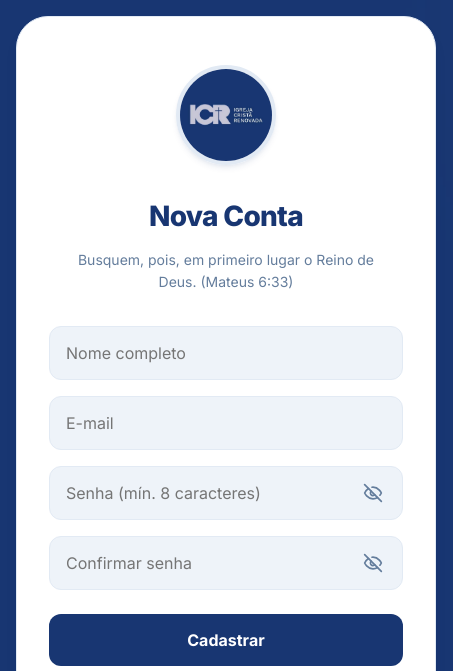
Scenario: Componente Registro › não cadastra quando a confirmação de senha é diferente
Type "João Silva" into the field labelled "Nome completo" at (226, 353), box [49, 326, 403, 380]
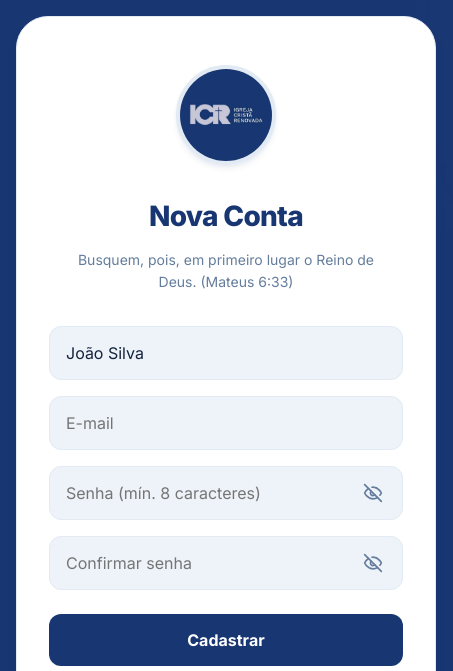
Type "joao@igreja.com" into the field labelled "E-mail" at (226, 423), box [49, 396, 403, 450]
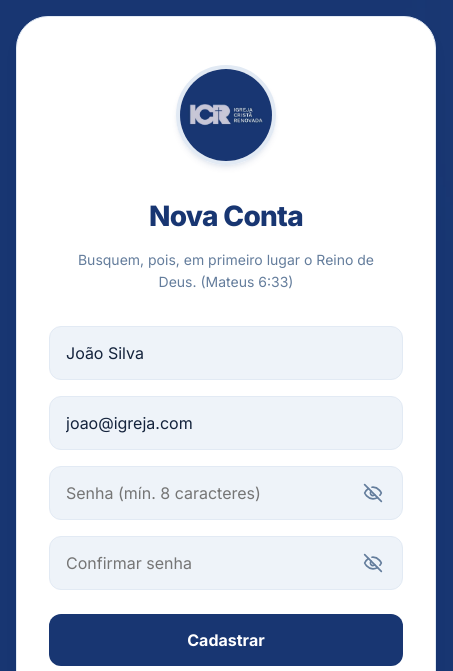
Type "senha1234" into the password field labelled "Senha (mín. 8 caracteres)" at (226, 493), box [49, 466, 403, 520]
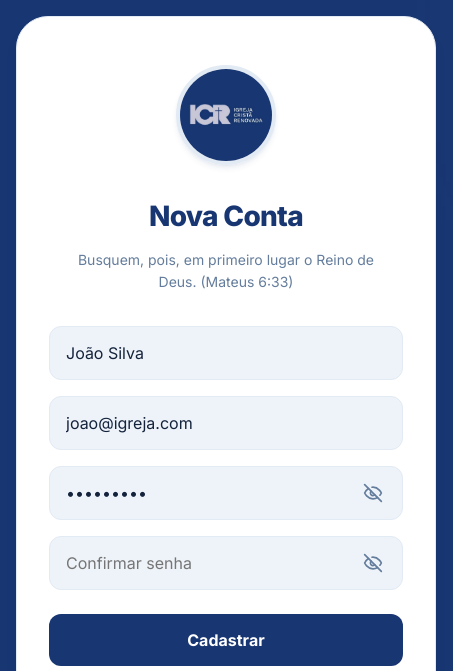
Type "senha1235" into the password field labelled "Confirmar senha" at (226, 563), box [49, 536, 403, 590]
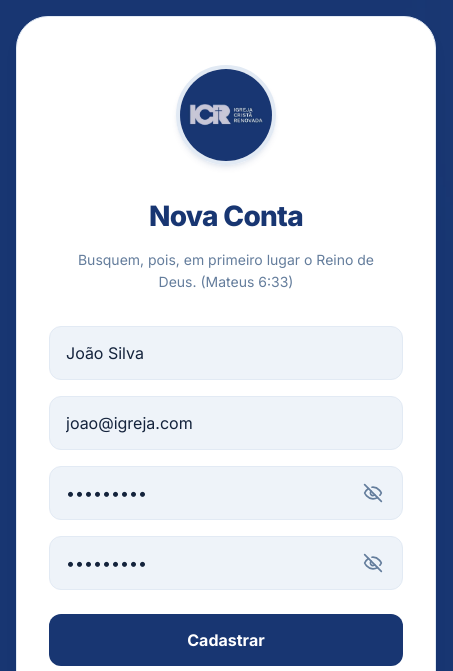
Click the button "Cadastrar" at (226, 640), box [49, 614, 403, 666]
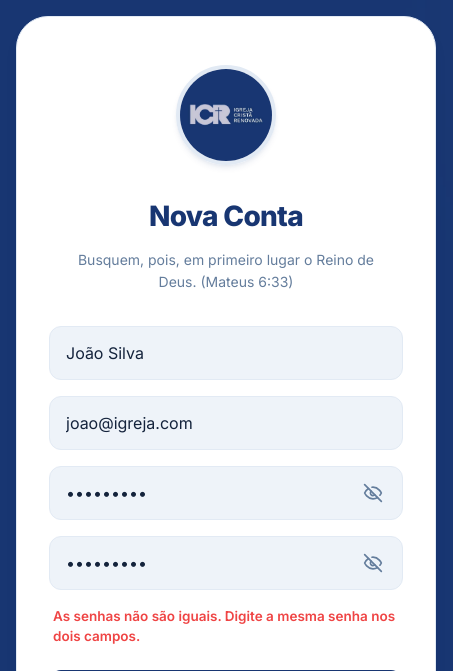
Now the message shows "senhas não são iguais", box [53, 608, 395, 644]
